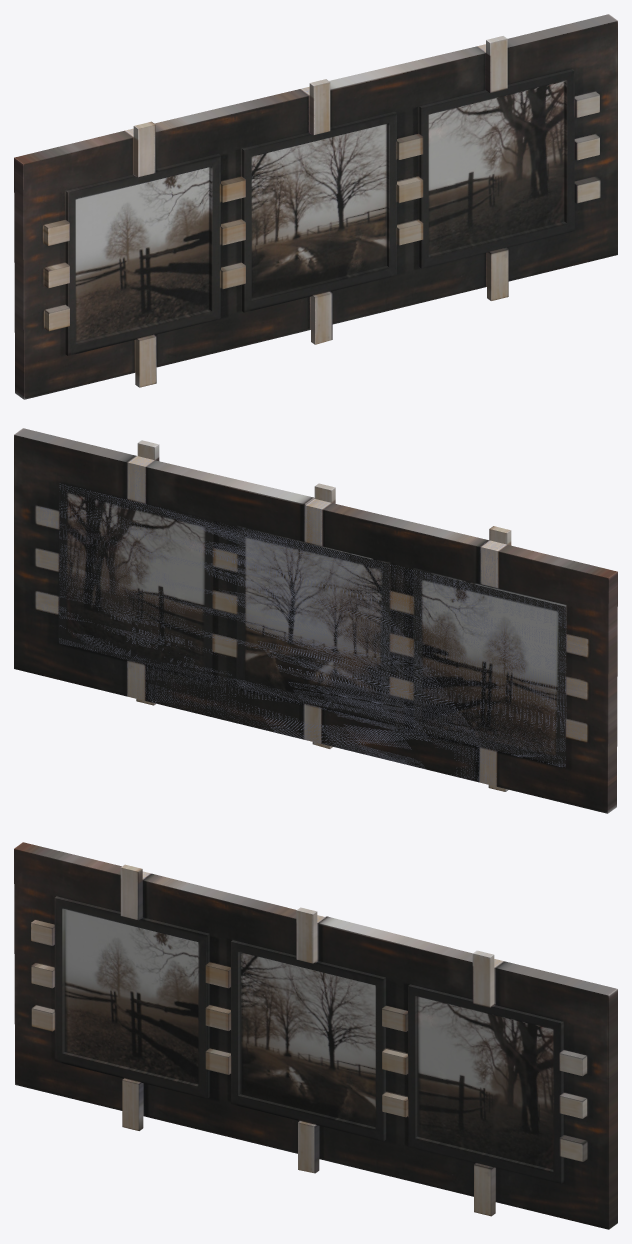
3 views of the same model, one above another, from view 1: azimuth 30°, elevation 25°; view 2: azimuth 150°, elevation 25°; view 3: azimuth 330°, elevation 25° (orthographic).
Visible parts, largest first — view 1: SketchUp.001_ID324, SketchUp_ID316, SketchUp.002_ID332, group_2.001_ID212, group_2.007_ID260, group_2.006_ID252, group_2.004_ID236, group_1_ID155, group_2.005_ID244, group_2.002_ID220, group_1.001_ID163, group_1.002_ID171 (+21 smaller); view 2: group_2.010_ID286, group_2.001_ID212, group_2.007_ID260, group_2.006_ID252, group_2.004_ID236, group_2.012_ID304, group_2.011_ID296; view 3: SketchUp.001_ID324, SketchUp_ID316, SketchUp.002_ID332, group_2.007_ID260, group_2.001_ID212, group_2.006_ID252, group_2.004_ID236, group_1_ID155, group_2.005_ID244, group_2.002_ID220, group_1.001_ID163, group_1.002_ID171 (+20 smaller).
Part boxes in pixels (x1,y1,x2,y2): SketchUp.001_ID324: (251, 124, 386, 298); SketchUp_ID316: (75, 167, 209, 341); SketchUp.002_ID332: (428, 81, 564, 254); group_2.001_ID212: (14, 130, 135, 399); group_2.007_ID260: (507, 14, 617, 281); group_2.006_ID252: (329, 46, 485, 138); group_2.004_ID236: (154, 89, 309, 181); group_1_ID155: (65, 153, 220, 355); group_2.005_ID244: (331, 240, 486, 324); group_2.002_ID220: (155, 284, 310, 367); group_1.001_ID163: (419, 69, 574, 268); group_1.002_ID171: (242, 111, 396, 312); group_2.010_ID286: (35, 456, 587, 786); group_2.001_ID212: (496, 544, 617, 813); group_2.007_ID260: (14, 428, 136, 696); group_2.006_ID252: (146, 460, 314, 548); group_2.004_ID236: (322, 503, 488, 595); group_2.012_ID304: (480, 540, 506, 588); group_2.011_ID296: (305, 499, 330, 545); SketchUp.001_ID324: (240, 952, 375, 1127); SketchUp_ID316: (64, 909, 198, 1084); SketchUp.002_ID332: (417, 996, 553, 1169); group_2.007_ID260: (494, 961, 617, 1229); group_2.001_ID212: (14, 842, 123, 1110); group_2.006_ID252: (317, 916, 472, 1010); group_2.004_ID236: (142, 873, 296, 967); group_1_ID155: (54, 896, 209, 1098); group_2.005_ID244: (319, 1112, 475, 1196); group_2.002_ID220: (143, 1070, 299, 1153); group_1.001_ID163: (408, 984, 563, 1183); group_1.002_ID171: (231, 940, 385, 1141).
Bounding box in the file's own units: 15.74 × 6.55 × 0.6019.
2 materials, 1 textured.
